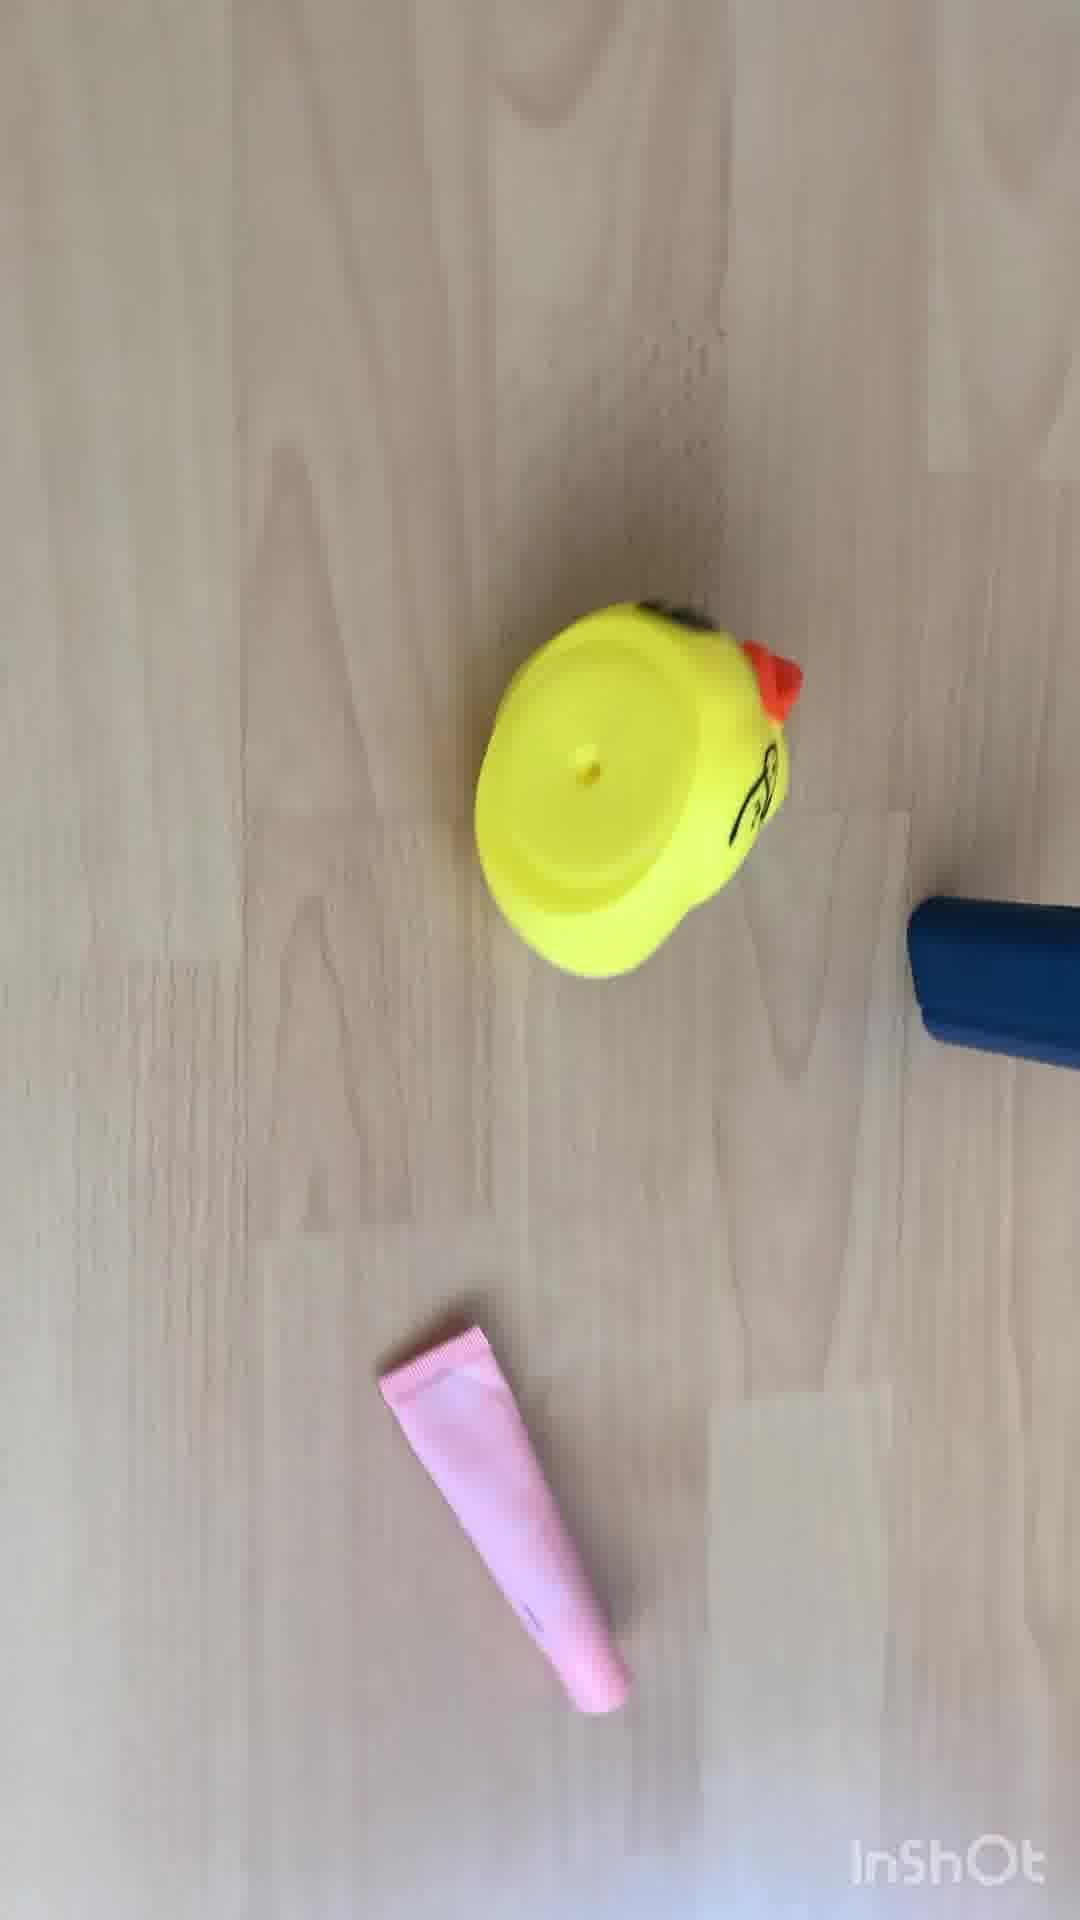duck: (472, 587, 808, 996)
glo: (899, 882, 1080, 1091)
lip balm: (377, 1327, 632, 1718)
